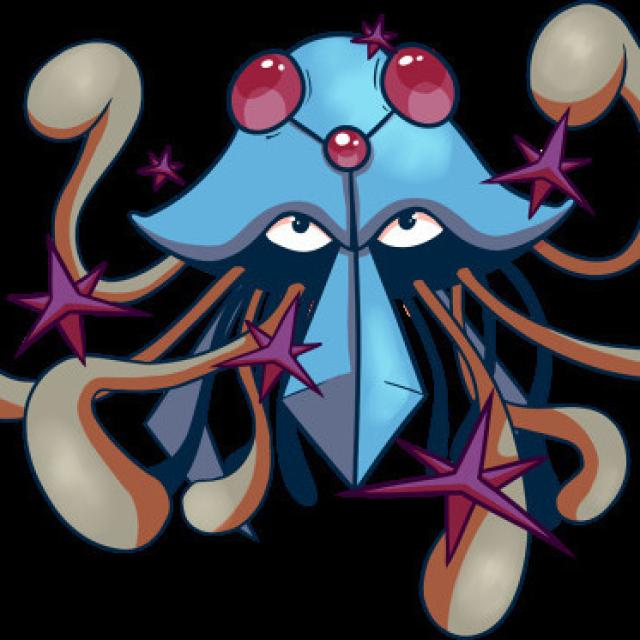Tentacruel: (164, 28, 565, 529)
